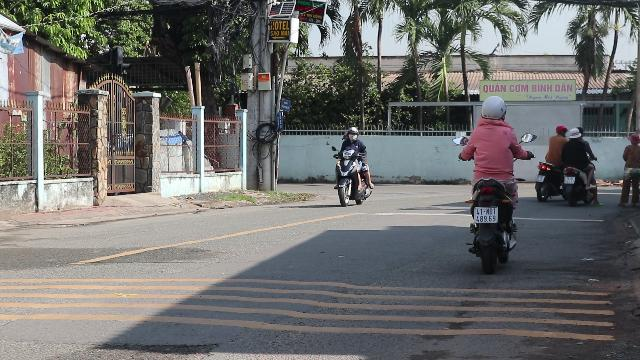helmet: (478, 95, 506, 123)
licenseplate: (474, 206, 498, 222)
motorcyclist: (459, 95, 525, 269)
